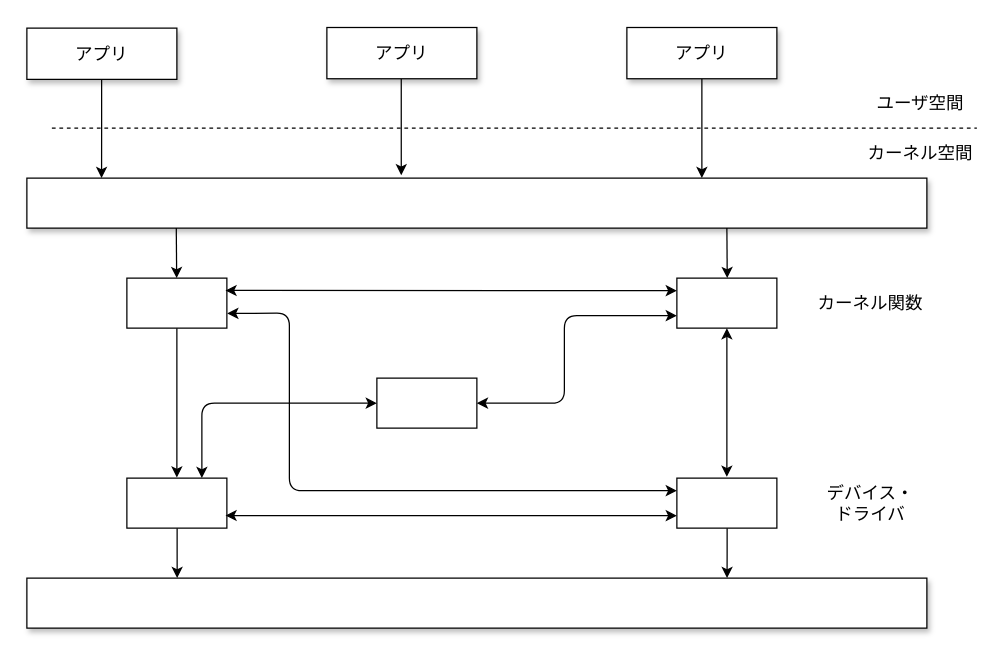
Image size: 1000x659. Some labels were removed from this diagram. The shapes that lost their labels are listed below. From the top down, each one's centre as x and y in pixels, then its label:
(x=477, y=204): システム・コールのインタフェース
(x=477, y=604): ハードウェア
